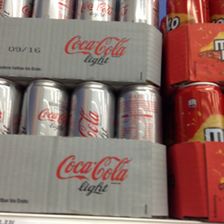soda: (174, 81, 224, 142), (18, 80, 68, 134), (70, 80, 117, 137), (117, 86, 160, 138), (165, 1, 207, 27), (1, 77, 20, 133)
